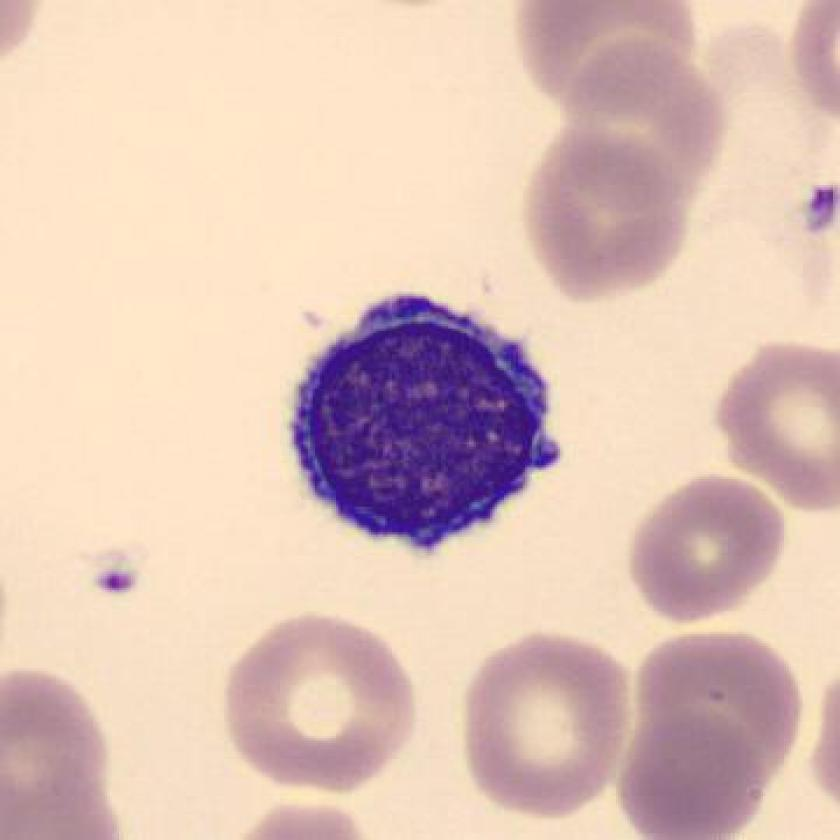lymphocyte: (267, 276, 577, 568)
